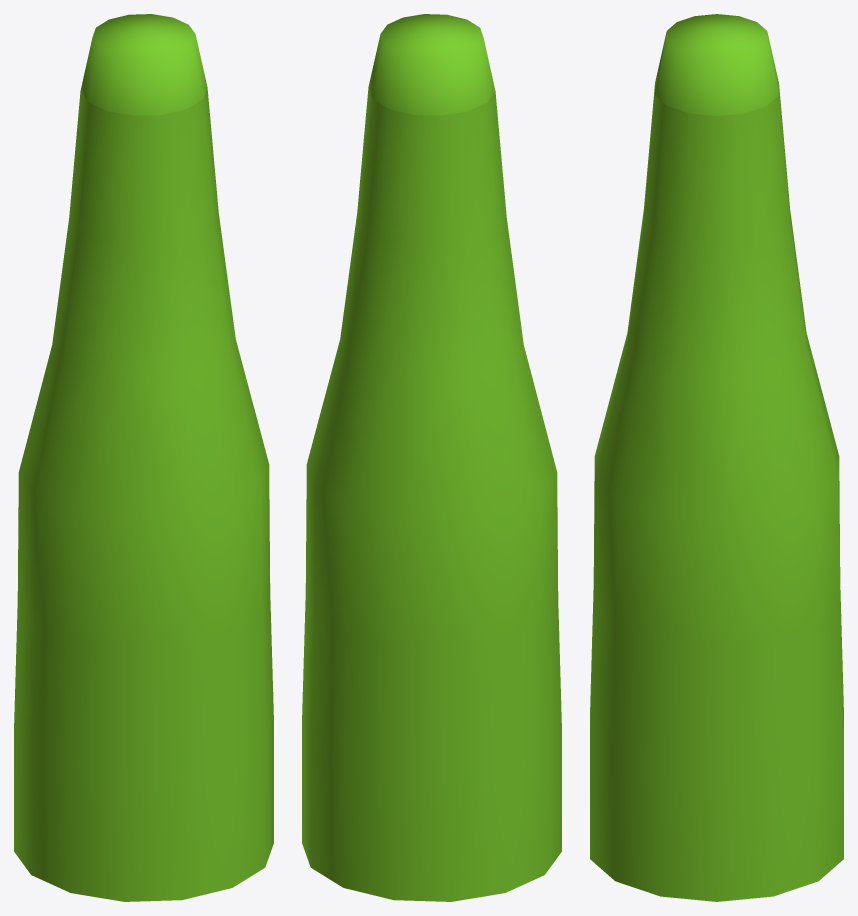
The model's file is bottle_4.fbx.
The picture shows the model from 3 angles, left to right: view 1: azimuth 30°, elevation 25°; view 2: azimuth 150°, elevation 25°; view 3: azimuth 270°, elevation 25°; orthographic projection.
Parts seen in each view (by area): view 1: Cylinder004; view 2: Cylinder004; view 3: Cylinder004.
Boxes of the visible parts, x1=… form: Cylinder004: x1=14, y1=14, x2=273, y2=901; Cylinder004: x1=302, y1=14, x2=561, y2=901; Cylinder004: x1=590, y1=14, x2=843, y2=901.
Size of the model in its own units: 1.06 by 3.66 by 1.03.
